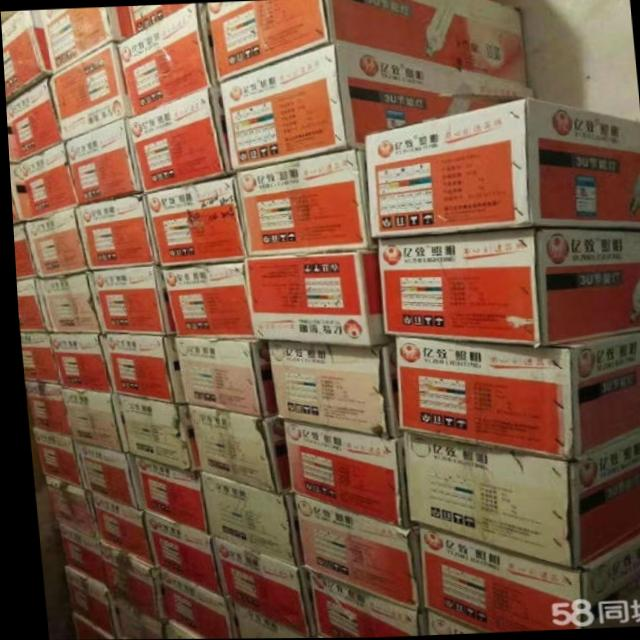box: (218, 46, 535, 172), (364, 94, 640, 238), (398, 430, 640, 568), (390, 331, 640, 461), (375, 230, 640, 348), (208, 0, 528, 88), (411, 524, 640, 633), (231, 149, 373, 257), (286, 494, 418, 610), (275, 419, 409, 529), (244, 249, 389, 347), (260, 341, 397, 439), (124, 88, 231, 194), (118, 3, 216, 115), (204, 537, 308, 637), (195, 473, 299, 565), (140, 176, 243, 268), (182, 404, 282, 494), (300, 571, 420, 638), (48, 43, 130, 141), (171, 337, 271, 417), (60, 119, 140, 206), (159, 262, 248, 338), (138, 508, 214, 595), (72, 192, 157, 269), (96, 332, 182, 404), (113, 394, 193, 471), (85, 265, 172, 334), (126, 456, 201, 535), (42, 6, 131, 72), (152, 569, 233, 639), (93, 542, 160, 619), (68, 441, 140, 509), (1, 9, 51, 104), (53, 386, 123, 452), (17, 142, 76, 219), (84, 492, 146, 564), (22, 206, 85, 276), (6, 79, 60, 160), (56, 565, 112, 639), (32, 271, 98, 333), (45, 333, 106, 392), (39, 477, 93, 538), (26, 428, 77, 488), (53, 524, 98, 586), (227, 604, 304, 639), (20, 382, 65, 437), (102, 595, 157, 639), (129, 3, 189, 35), (16, 333, 54, 383), (13, 277, 43, 332), (420, 612, 480, 635), (64, 612, 110, 640), (8, 162, 27, 226), (11, 223, 32, 280), (5, 104, 17, 162), (158, 621, 196, 639)
